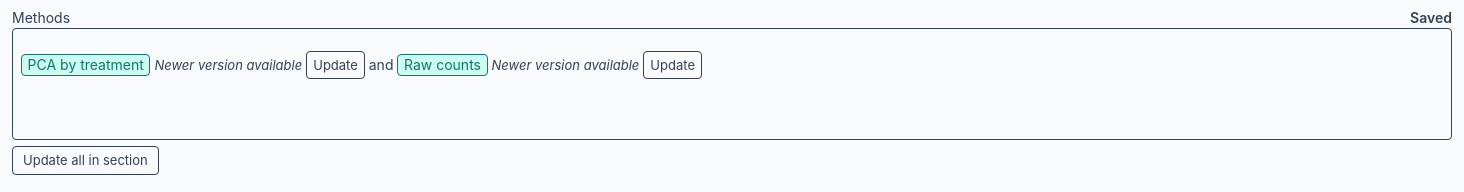
Test: RichSectionEditor — live › shows an 'Update all in section' button when any reference is outdated, and updates every outdated reference in one action (FR-EDT-07)
Click the button with class "expanded__update-all".
click(85, 161)  # box [12, 146, 159, 175]
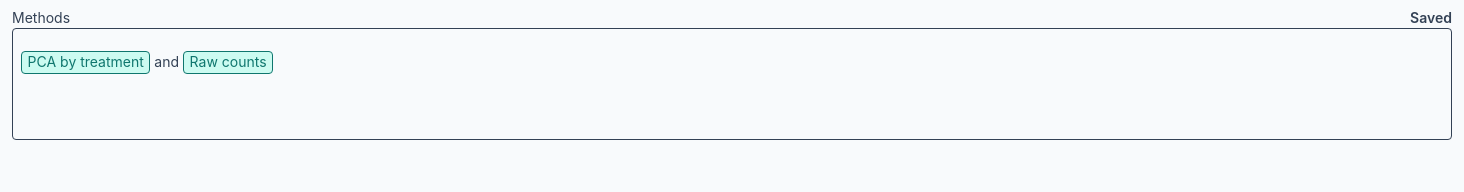
expect the button with class "expanded__update-all" is gone: met
expect the element with class "expanded__artefact-ref-newer" is gone: met
